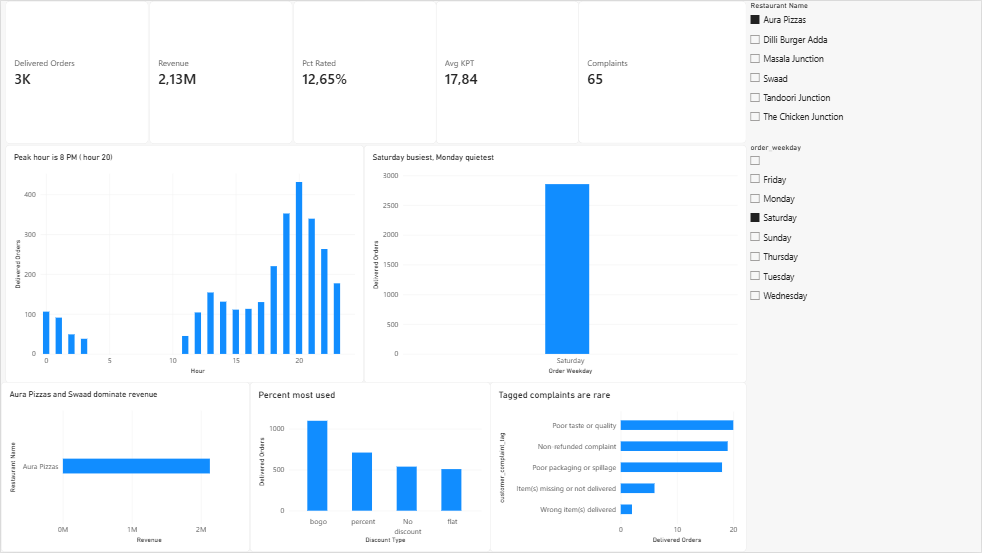

The dashboard page shown, as its layout file describes it:
{"tool":"powerbi","page":{"name":"Delivery Overview","canvas":[1920,1080],"ordinal":0},"visuals":[{"type":"cardVisual","fields":{"Data":["orders.Delivered Orders"]},"box":[10,0,280,280],"z":0},{"type":"cardVisual","fields":{"Data":["orders.Revenue"]},"box":[292,0,280,280],"z":1000},{"type":"cardVisual","fields":{"Data":["orders.Pct Rated"]},"box":[572.6,0,280,280],"z":2000},{"type":"cardVisual","fields":{"Data":["orders.Avg KPT"]},"box":[853.2,0,280,280],"z":4000},{"type":"clusteredColumnChart","title":"Peak hour is 8 PM ( hour 20)","fields":{"Category":["orders.order_hour"],"Y":["orders.Delivered Orders"]},"box":[9.5,281,702.4,466.7],"z":5000},{"type":"clusteredColumnChart","title":"Saturday busiest, Monday quietest","fields":{"Category":["orders.order_weekday"],"Y":["orders.Delivered Orders"]},"box":[711.9,281,750,466.7],"z":6000},{"type":"clusteredBarChart","title":"Aura Pizzas and Swaad dominate revenue","fields":{"Category":["orders.restaurant_name"],"Y":["orders.Revenue"]},"box":[0,747.6,488.1,333.3],"z":7000},{"type":"clusteredColumnChart","title":"Percent most used","fields":{"Category":["orders.discount_type"],"Y":["orders.Delivered Orders"]},"box":[488.1,747.6,471.4,333.3],"z":8000},{"type":"clusteredBarChart","title":"Tagged complaints are rare","fields":{"Category":["orders.customer_complaint_tag"],"Y":["orders.Delivered Orders"]},"box":[959.5,747.6,502.4,333.3],"z":9000},{"type":"slicer","fields":{"Values":["orders.restaurant_name"]},"box":[1461.8,0,376.5,282.4],"z":10000},{"type":"slicer","fields":{"Values":["orders.order_weekday"]},"box":[1461.8,279.4,376.5,470.6],"z":10001},{"type":"cardVisual","fields":{"Data":["orders.Complaints"]},"box":[1132.4,0,329.4,279.4],"z":10002}]}

Visuals, with their boxes in screenshot pixels (x1, y1, x2, y2), scaled from the page's 1920x1080 canvas onto the 982x553 screenshot:
cardVisual - orders.Delivered Orders: bbox(5, 0, 148, 143)
cardVisual - orders.Revenue: bbox(149, 0, 293, 143)
cardVisual - orders.Pct Rated: bbox(293, 0, 436, 143)
cardVisual - orders.Avg KPT: bbox(436, 0, 580, 143)
"Peak hour is 8 PM ( hour 20)" clusteredColumnChart: bbox(5, 144, 364, 383)
"Saturday busiest, Monday quietest" clusteredColumnChart: bbox(364, 144, 748, 383)
"Aura Pizzas and Swaad dominate revenue" clusteredBarChart: bbox(0, 383, 250, 552)
"Percent most used" clusteredColumnChart: bbox(250, 383, 491, 552)
"Tagged complaints are rare" clusteredBarChart: bbox(491, 383, 748, 552)
slicer - orders.restaurant_name: bbox(748, 0, 940, 145)
slicer - orders.order_weekday: bbox(748, 143, 940, 384)
cardVisual - orders.Complaints: bbox(579, 0, 748, 143)
